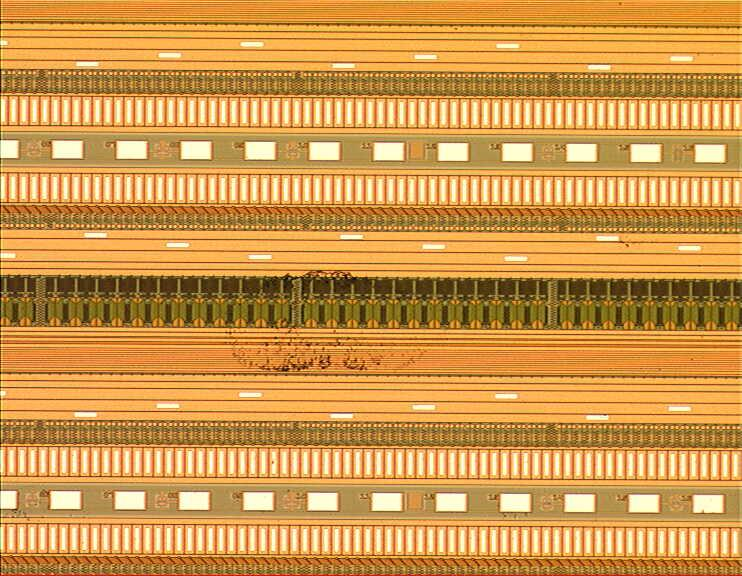PO CONTAMINATION: (205, 220, 668, 383)
